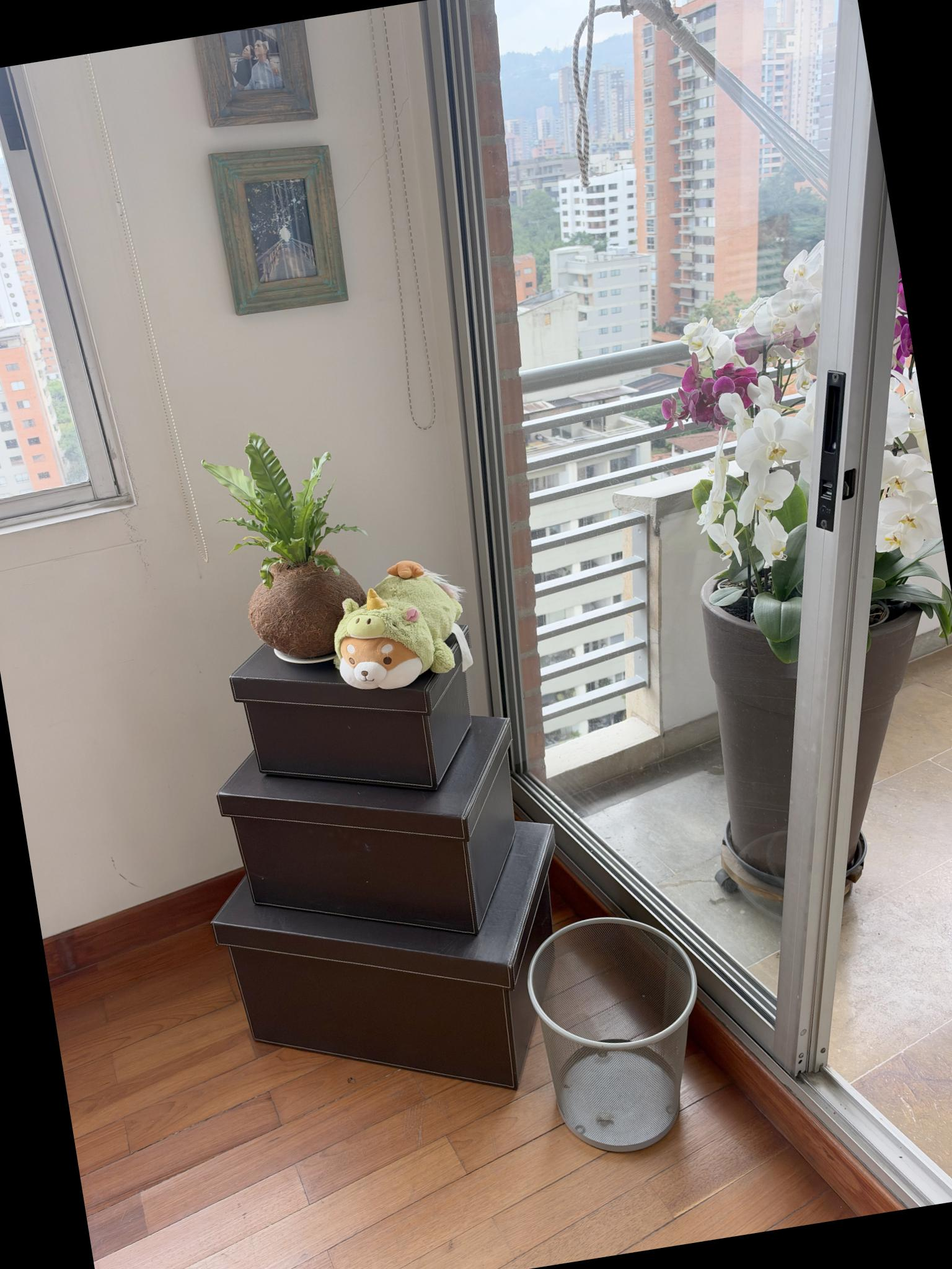peluche_martin: (319, 551, 480, 697)
